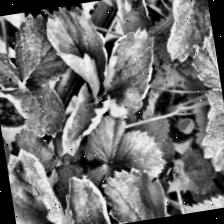Powdery Mildew Leaf: (41, 1, 116, 106), (95, 26, 167, 122), (50, 78, 118, 158), (5, 143, 69, 224), (156, 0, 217, 67), (52, 170, 114, 224)
